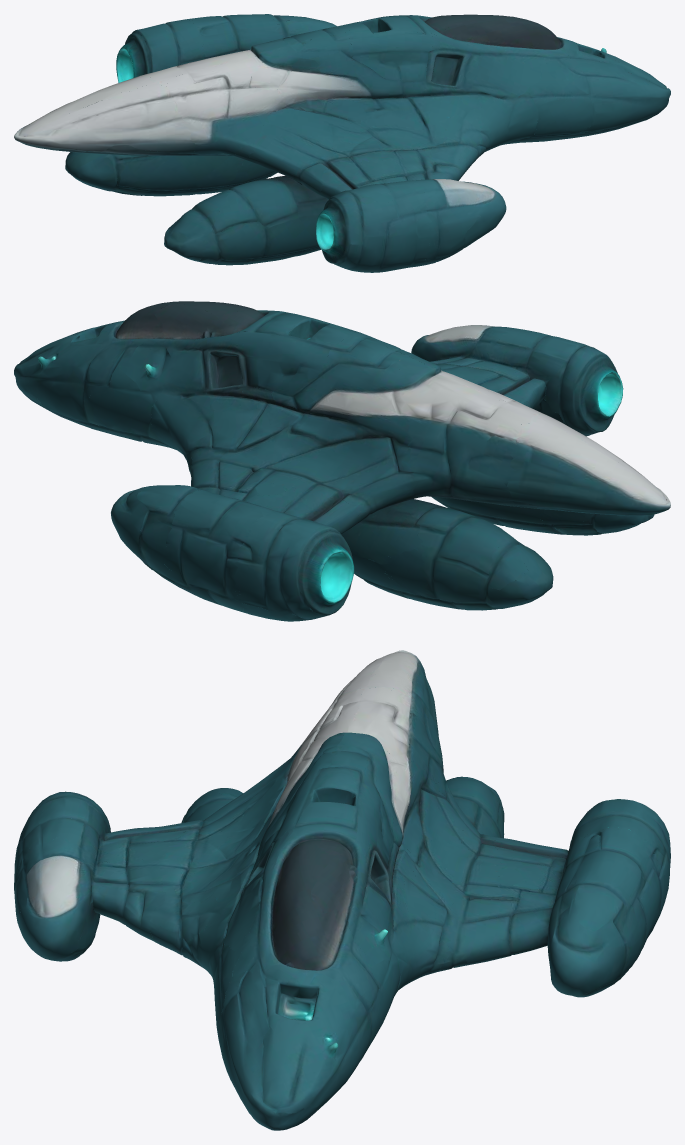
The model's file is nomad_c.glb.
3 renders of one model, top to bottom at view 1: azimuth 30°, elevation 25°; view 2: azimuth 150°, elevation 25°; view 3: azimuth 270°, elevation 25°, orthographic. The views are drawn at different scales.
Parts seen in each view (by area): view 1: tripo_node_a0830e41-ab0f-445d-80d9-146e07285097; view 2: tripo_node_a0830e41-ab0f-445d-80d9-146e07285097; view 3: tripo_node_a0830e41-ab0f-445d-80d9-146e07285097.
Part boxes in pixels (x1,y1,x2,y2): tripo_node_a0830e41-ab0f-445d-80d9-146e07285097: (14,14,670,272); tripo_node_a0830e41-ab0f-445d-80d9-146e07285097: (14,301,670,621); tripo_node_a0830e41-ab0f-445d-80d9-146e07285097: (14,650,670,1130).
Bounding box in the file's own units: 2 × 0.5341 × 1.46.
1 material, 1 textured.
